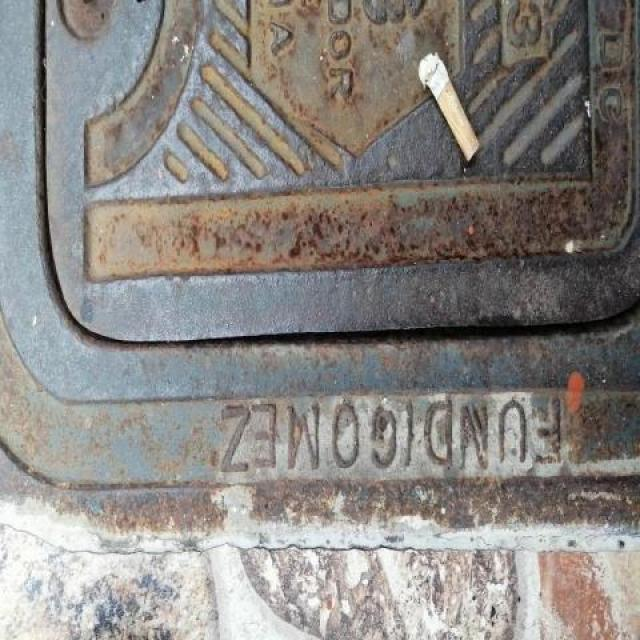non-organic waste: (409, 49, 482, 166)
